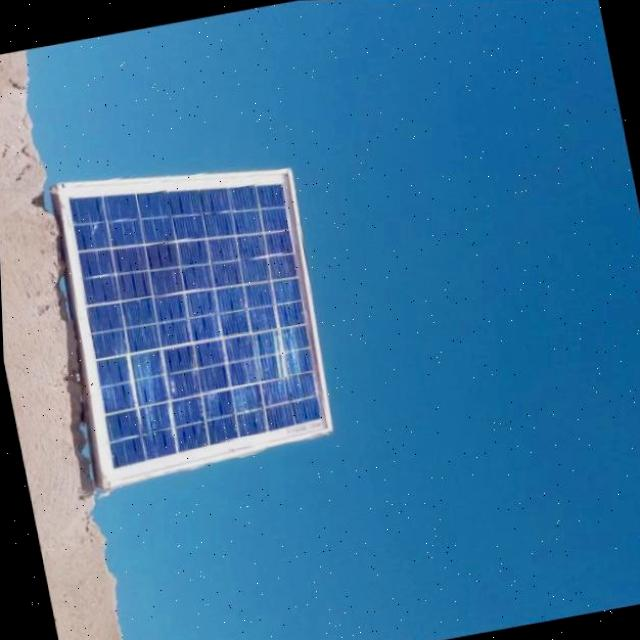Normal Solar Panel: (46, 143, 340, 485)
